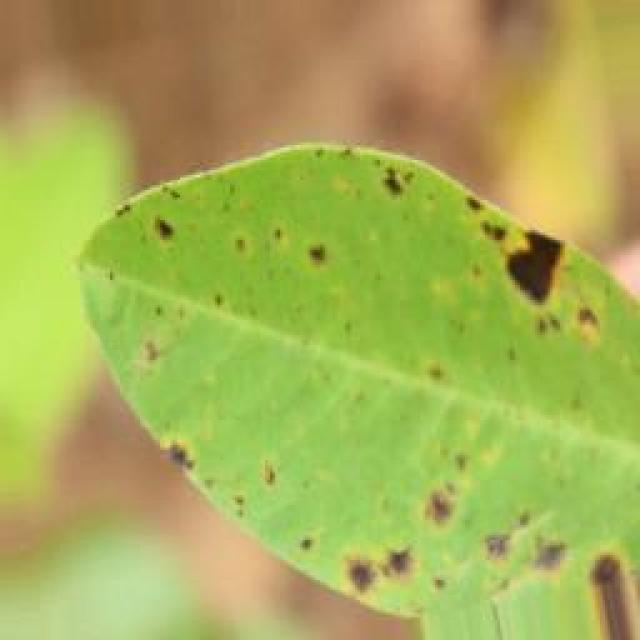Yellowish: (63, 137, 602, 640)
